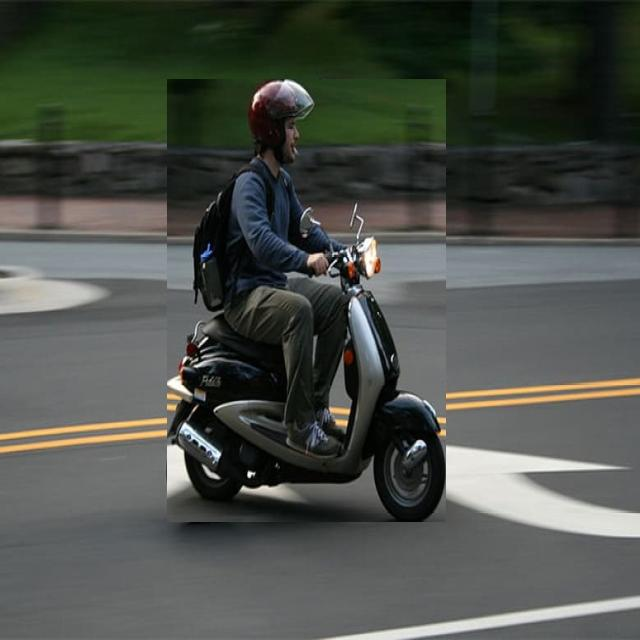motorcycle: (167, 80, 445, 522)
